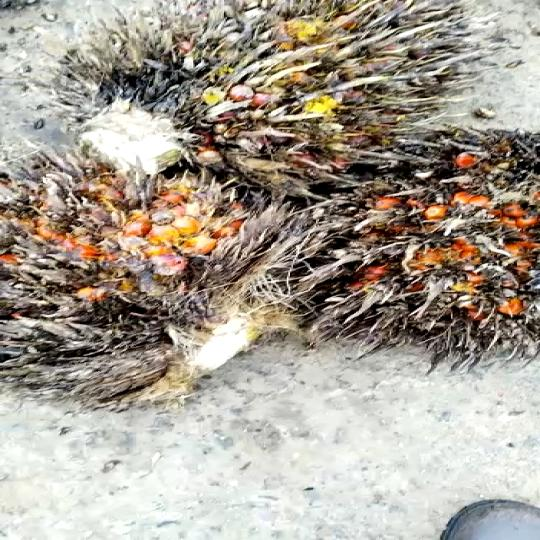terlalu masak: (56, 44, 454, 226)
